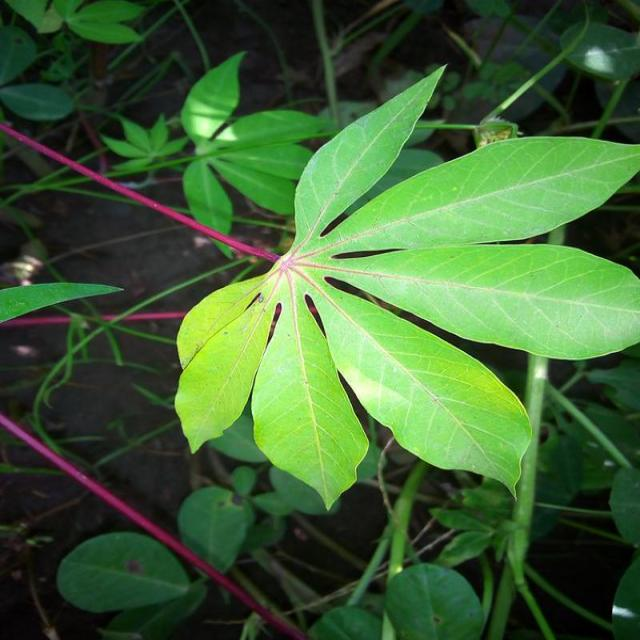cassava leaf: (173, 61, 638, 511)
